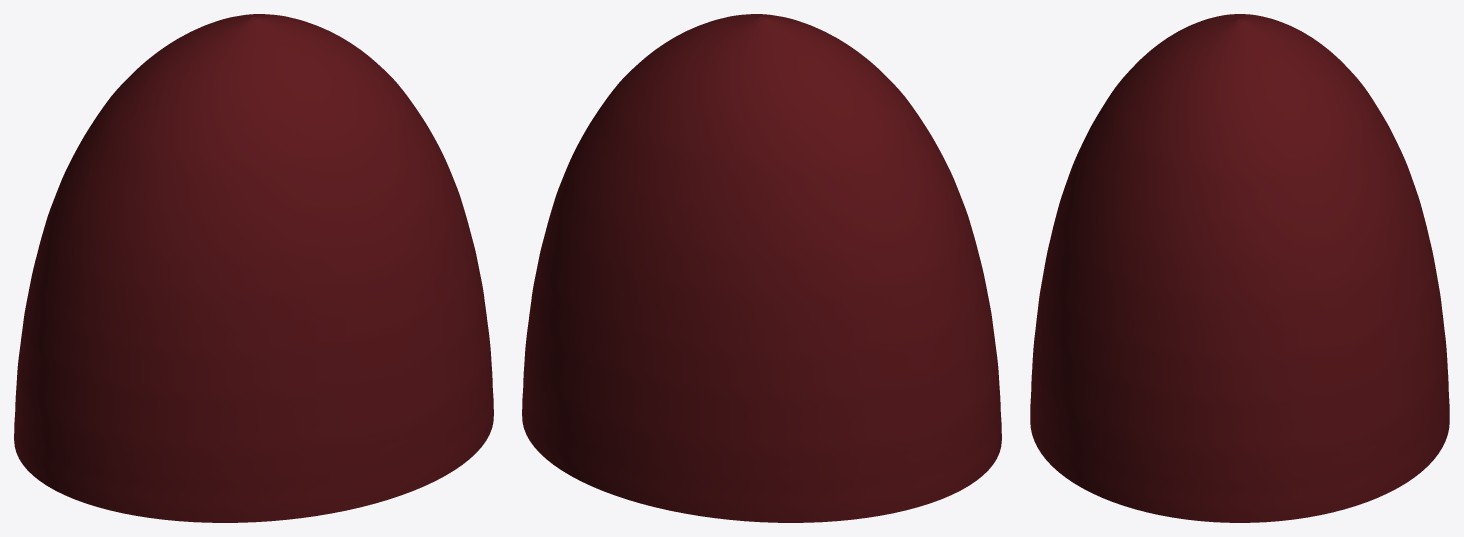
The model's file is sacrificial-beanie.glb.
The picture shows the model from 3 angles, left to right: view 1: azimuth 30°, elevation 25°; view 2: azimuth 150°, elevation 25°; view 3: azimuth 270°, elevation 25°; orthographic projection. The views are drawn at different scales.
Visible parts, largest first — view 1: Outer vessel; view 2: Outer vessel; view 3: Outer vessel.
Boxes of the visible parts, x1,y1,x2,y2 form: Outer vessel: [14, 14, 493, 522]; Outer vessel: [522, 14, 1001, 522]; Outer vessel: [1030, 14, 1449, 522].
Size of the model in its own units: 0.2627 by 0.24 by 0.228.
